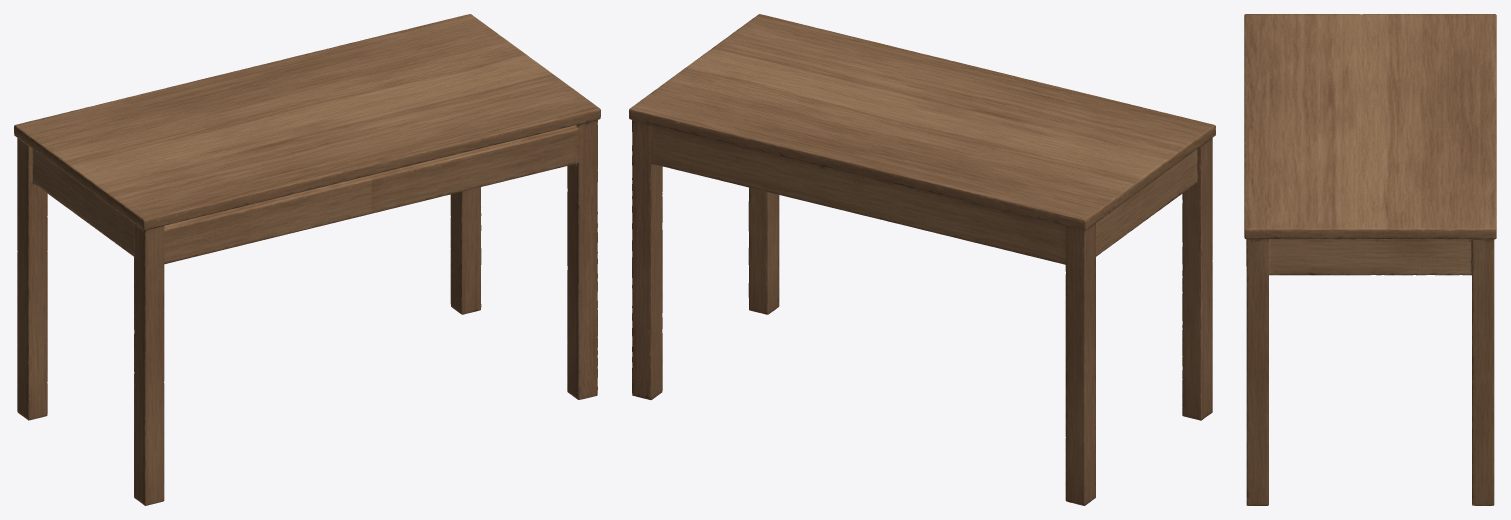
File: desk_v1.glb
The picture shows the model from 3 angles, left to right: view 1: azimuth 30°, elevation 25°; view 2: azimuth 150°, elevation 25°; view 3: azimuth 270°, elevation 25°; orthographic projection. The views are drawn at different scales.
Visible parts, largest first — view 1: world; view 2: world; view 3: world.
Part boxes in pixels (bbox=[...]): world: bbox=[14, 14, 600, 505]; world: bbox=[629, 14, 1215, 505]; world: bbox=[1244, 14, 1496, 505].
Size of the model in its own units: 1 by 0.6019 by 0.4953.
1 material, 1 textured.
